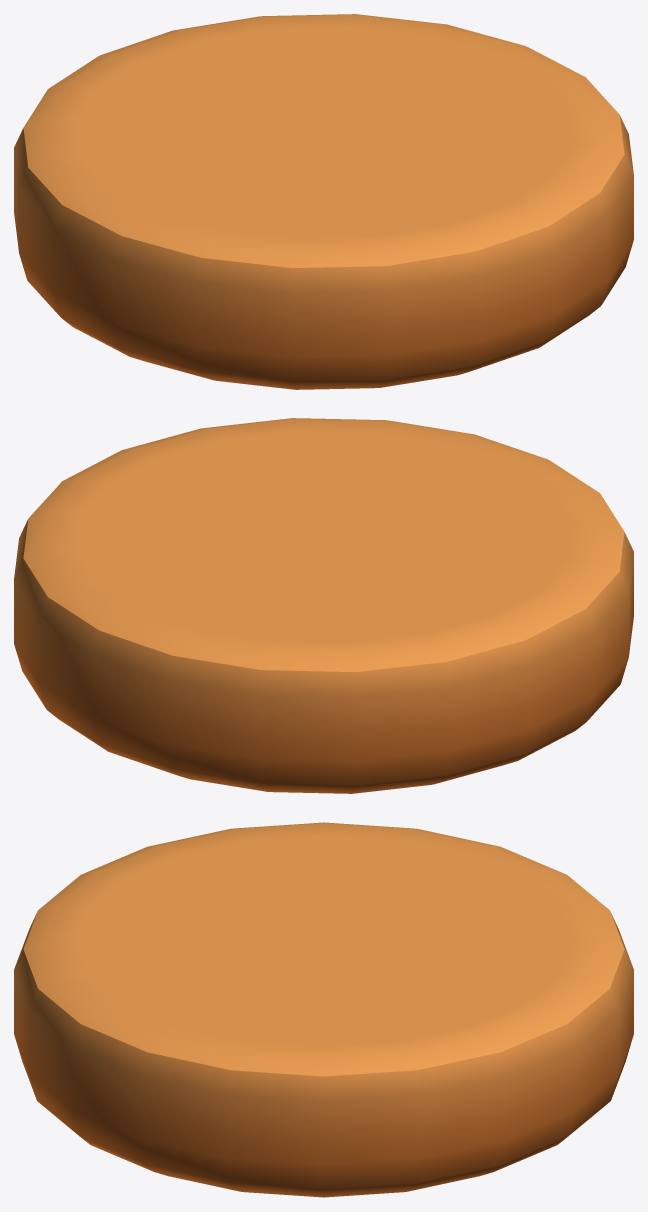
Rendered from MD_Buns_Bottom.fbx.
The picture shows the model from 3 angles, top to bottom: view 1: azimuth 30°, elevation 25°; view 2: azimuth 150°, elevation 25°; view 3: azimuth 270°, elevation 25°; orthographic projection.
Parts seen in each view (by area): view 1: pCylinder2; view 2: pCylinder2; view 3: pCylinder2.
Part boxes in pixels (left/top/right/bottom): pCylinder2: left=14, top=14, right=633, bottom=389; pCylinder2: left=14, top=418, right=633, bottom=793; pCylinder2: left=14, top=822, right=633, bottom=1197.
Bounding box in the file's own units: 2 × 0.5279 × 2.
